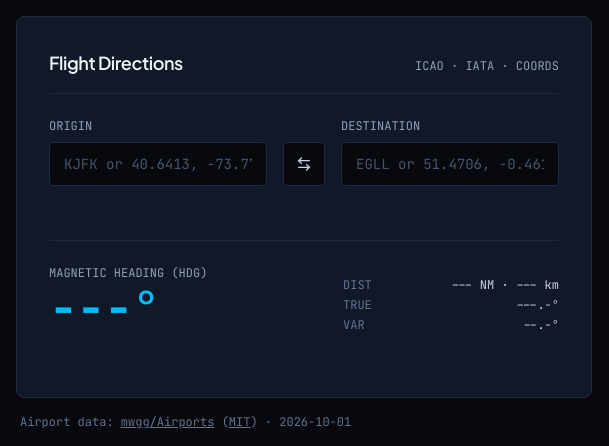
Scenario: App › invalid location input › names the problem for -48.2 N, 14.0 and marks it after leaving the field
Later steps or results of the test are not shown.
Step 1. Type "-48.2 N, 14.0" into the field labelled "ORIGIN" → (158, 164), box x1=49 y1=142 x2=267 y2=186
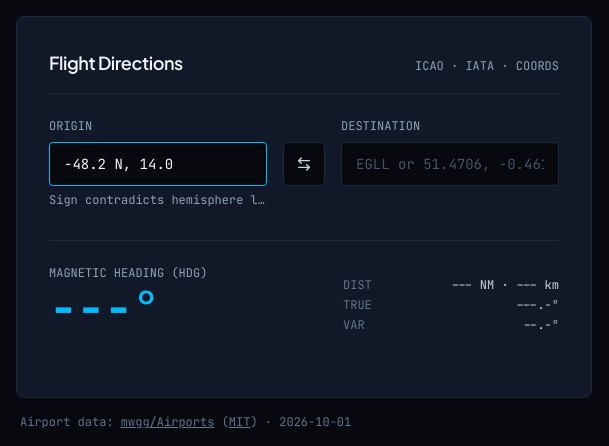
Now the text "Sign contradicts hemisphere letter" is shown, box x1=49 y1=192 x2=267 y2=208
